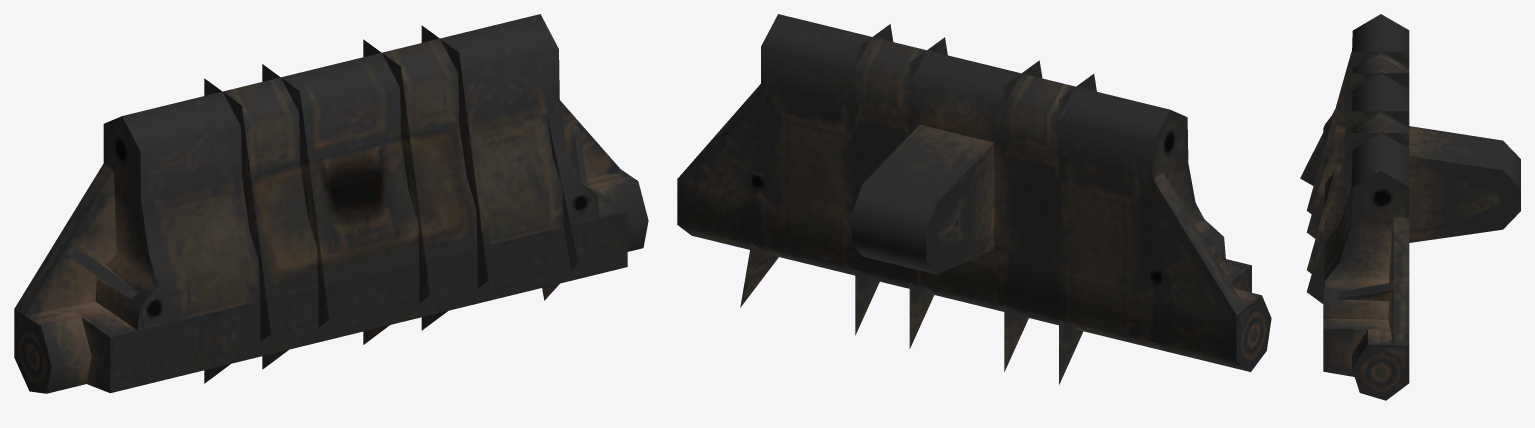
3 renders of one model, left to right at view 1: azimuth 30°, elevation 25°; view 2: azimuth 150°, elevation 25°; view 3: azimuth 270°, elevation 25°, orthographic. The views are drawn at different scales.
Visible parts, largest first — view 1: set_0_group_0; view 2: set_0_group_0; view 3: set_0_group_0.
Boxes of the visible parts, box(x1,y1,x2,y2) form: set_0_group_0: box(14, 14, 648, 393); set_0_group_0: box(677, 14, 1271, 384); set_0_group_0: box(1300, 14, 1520, 400).
Bounding box in the file's own units: 0.45 × 0.2204 × 0.1878.
1 material, 1 textured.
